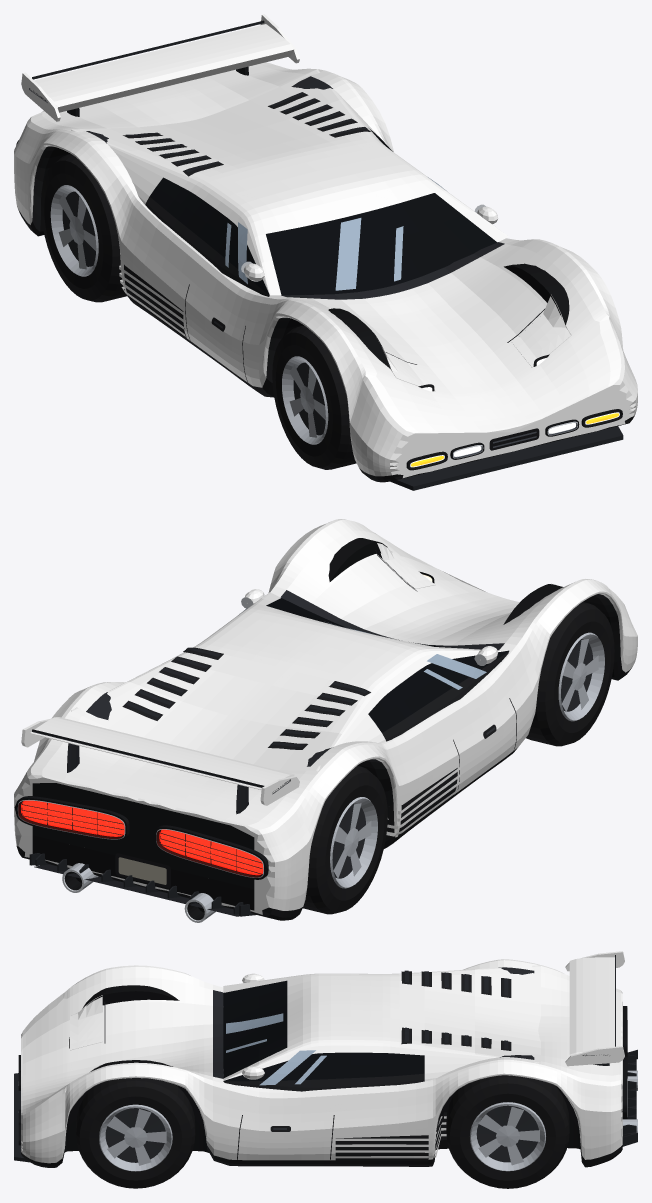
Rendered from wedge.glb.
3 renders of one model, top to bottom at view 1: azimuth 30°, elevation 25°; view 2: azimuth 150°, elevation 25°; view 3: azimuth 270°, elevation 25°, orthographic. The views are drawn at different scales.
Visible parts, largest first — view 1: body, cabine, asa, wheel_rr, wheel_fr, divisor, farol_popup, reflexo_vidro, venezianas, lamp_head, entrada_ar_r, asa_placas; view 2: body, cabine, painel_traseiro, wheel_rr, wheel_fr, lamp_tail, asa, venezianas, difusor, entrada_ar_r, placa, asa_placas (+4 smaller); view 3: body, cabine, wheel_rl, wheel_fl, asa, entrada_ar_l, venezianas, reflexo_vidro, farol_popup, asa_placas, difusor, lamp_tail (+1 smaller).
Boxes of the visible parts, left/top/right/bottom form: body: left=14, top=62, right=637, bottom=482; cabine: left=71, top=69, right=508, bottom=296; asa: left=32, top=20, right=294, bottom=112; wheel_rr: left=41, top=154, right=126, bottom=302; wheel_fr: left=272, top=325, right=356, bottom=469; divisor: left=390, top=426, right=623, bottom=490; farol_popup: left=376, top=294, right=571, bottom=391; reflexo_vidro: left=225, top=177, right=446, bottom=290; venezianas: left=123, top=92, right=370, bottom=176; lamp_head: left=406, top=409, right=622, bottom=470; entrada_ar_r: left=119, top=264, right=186, bottom=338; asa_placas: left=21, top=14, right=299, bottom=121; body: left=14, top=519, right=637, bottom=920; cabine: left=71, top=592, right=509, bottom=771; painel_traseiro: left=32, top=783, right=254, bottom=910; wheel_rr: left=303, top=765, right=387, bottom=914; wheel_fr: left=526, top=602, right=614, bottom=746; lamp_tail: left=14, top=796, right=268, bottom=879; asa: left=29, top=717, right=294, bottom=790; venezianas: left=122, top=647, right=370, bottom=749; difusor: left=29, top=853, right=255, bottom=916; entrada_ar_r: left=386, top=766, right=460, bottom=838; placa: left=115, top=853, right=170, bottom=888; asa_placas: left=21, top=718, right=299, bottom=805; body: left=21, top=959, right=622, bottom=1167; cabine: left=223, top=965, right=540, bottom=1091; wheel_rl: left=446, top=1075, right=569, bottom=1188; wheel_fl: left=76, top=1078, right=195, bottom=1188; asa: left=569, top=955, right=615, bottom=1055; entrada_ar_l: left=332, top=1112, right=447, bottom=1161; venezianas: left=401, top=970, right=511, bottom=1050; reflexo_vidro: left=226, top=1013, right=326, bottom=1085; farol_popup: left=68, top=995, right=102, bottom=1072; asa_placas: left=565, top=951, right=624, bottom=1066; difusor: left=622, top=1049, right=637, bottom=1146; lamp_tail: left=622, top=1006, right=627, bottom=1119.
Size of the model in its own units: 1.95 by 1.12 by 4.56.
